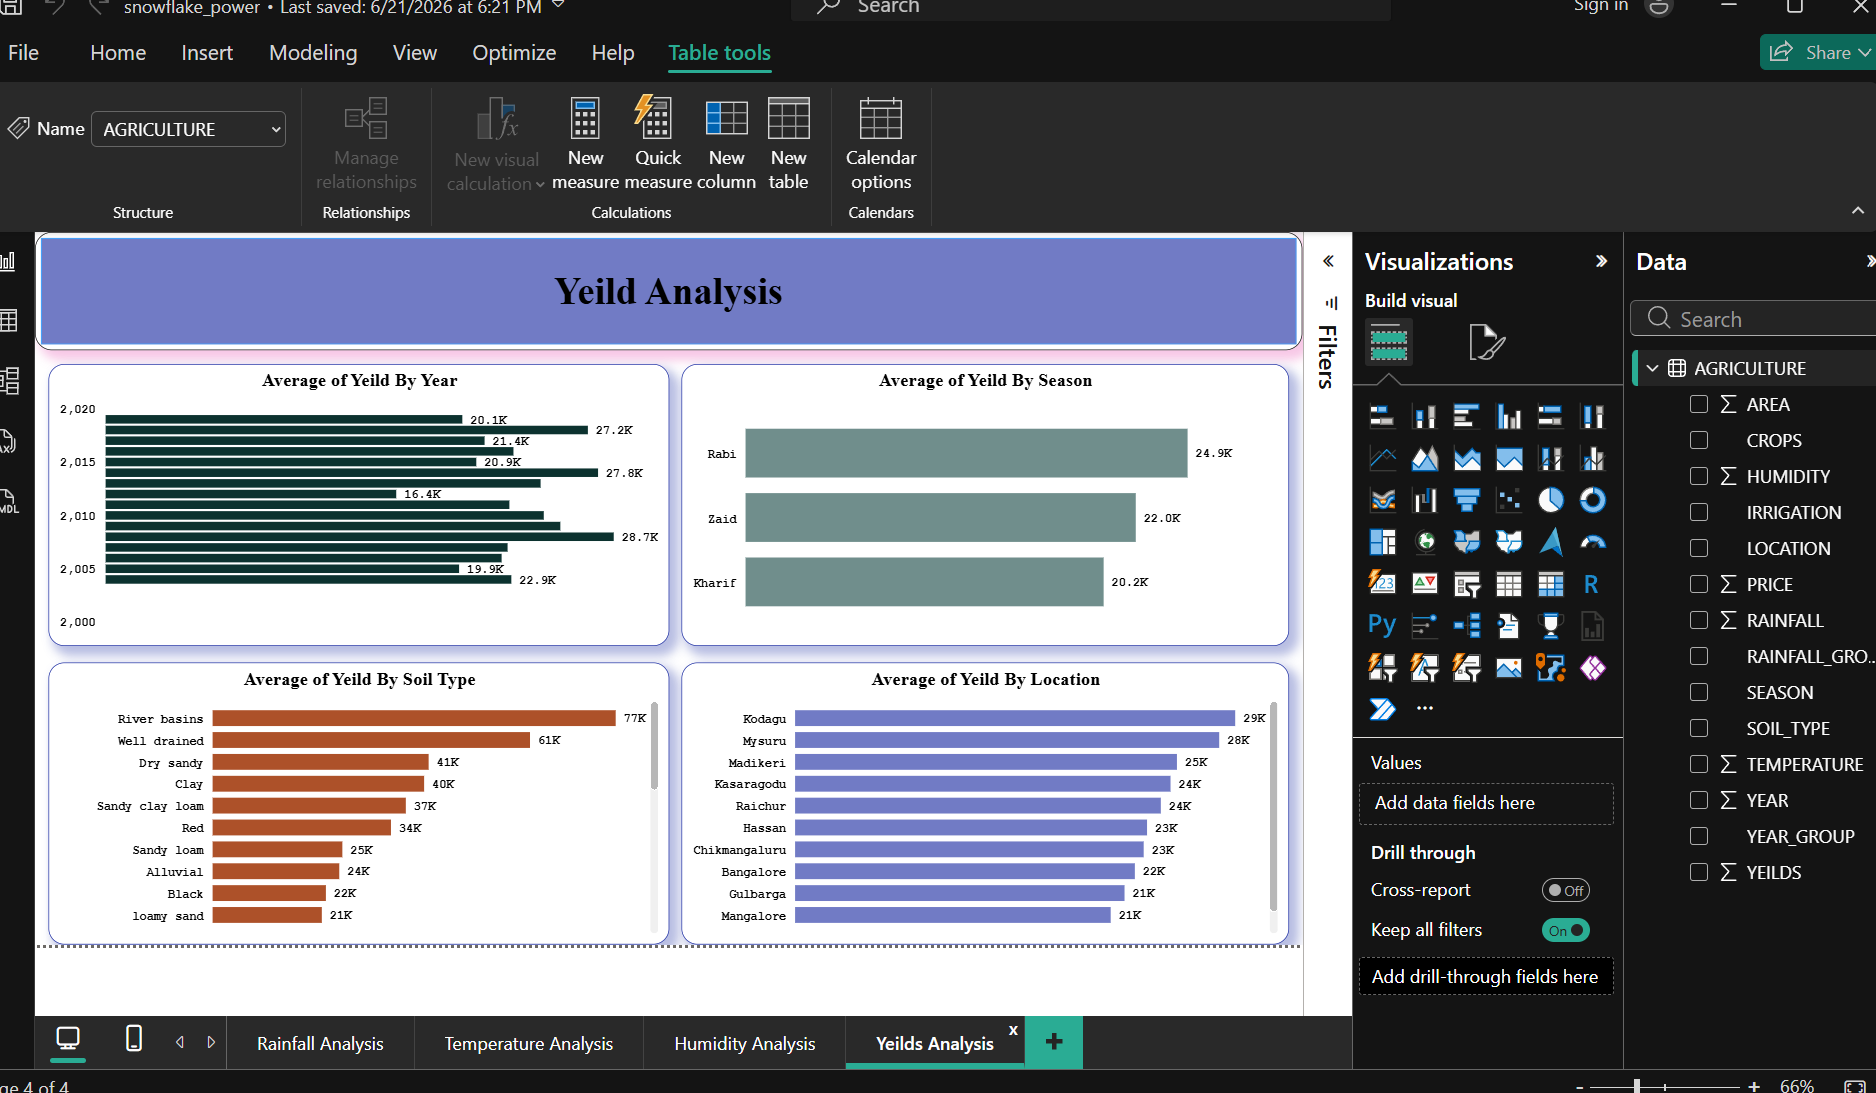

Layout of this report page (visuals, bound fields, positions):
{"tool":"powerbi","page":{"name":"Yeilds Analysis","canvas":[1280,720],"ordinal":3},"visuals":[{"type":"shape","title":"Rainfall analysis","box":[0,0,1279.5,119.6],"z":0},{"type":"barChart","title":"Average of Yeild By Year","fields":{"Category":["AGRICULTURE.YEAR"],"Y":["Avg(AGRICULTURE.YEILDS)"]},"box":[13.6,133.3,626.9,284.7],"z":1000},{"type":"barChart","title":"Average of  Yeild By Season","fields":{"Category":["AGRICULTURE.SEASON"],"Y":["Avg(AGRICULTURE.YEILDS)"]},"box":[652.6,133.3,613.3,284.7],"z":2000},{"type":"barChart","title":"Average of Yeild By Soil Type","fields":{"Category":["AGRICULTURE.SOIL_TYPE"],"Y":["Avg(AGRICULTURE.YEILDS)"]},"box":[13.6,434.6,626.9,284.7],"z":3000},{"type":"barChart","title":"Average of Yeild By Location","fields":{"Category":["AGRICULTURE.LOCATION"],"Y":["Avg(AGRICULTURE.YEILDS)"]},"box":[652.6,434.6,613.3,284.7],"z":4000}]}

Visuals, with their boxes on the page's 1280x720 design canvas (x1, y1, x2, y2). These are canvas units, not pixel positions in the 1876x1093 screenshot, which may show the page scaled, cropped or inside an application window:
"Rainfall analysis" shape: <bbox>0, 0, 1280, 120</bbox>
"Average of Yeild By Year" barChart: <bbox>14, 133, 640, 418</bbox>
"Average of  Yeild By Season" barChart: <bbox>653, 133, 1266, 418</bbox>
"Average of Yeild By Soil Type" barChart: <bbox>14, 435, 640, 719</bbox>
"Average of Yeild By Location" barChart: <bbox>653, 435, 1266, 719</bbox>
